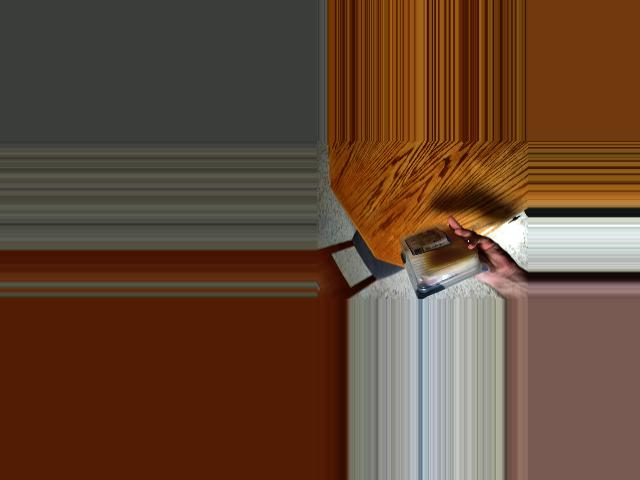cheese: (400, 226, 479, 293)
